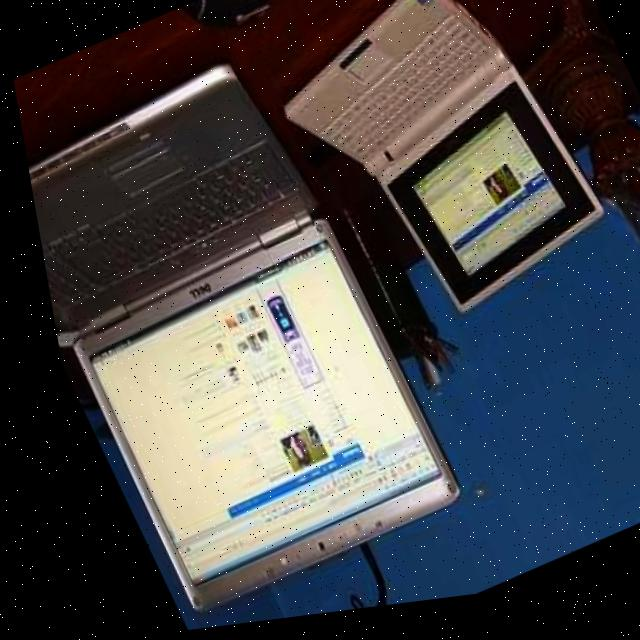laptop: (11, 41, 466, 638), (256, 0, 621, 335)
